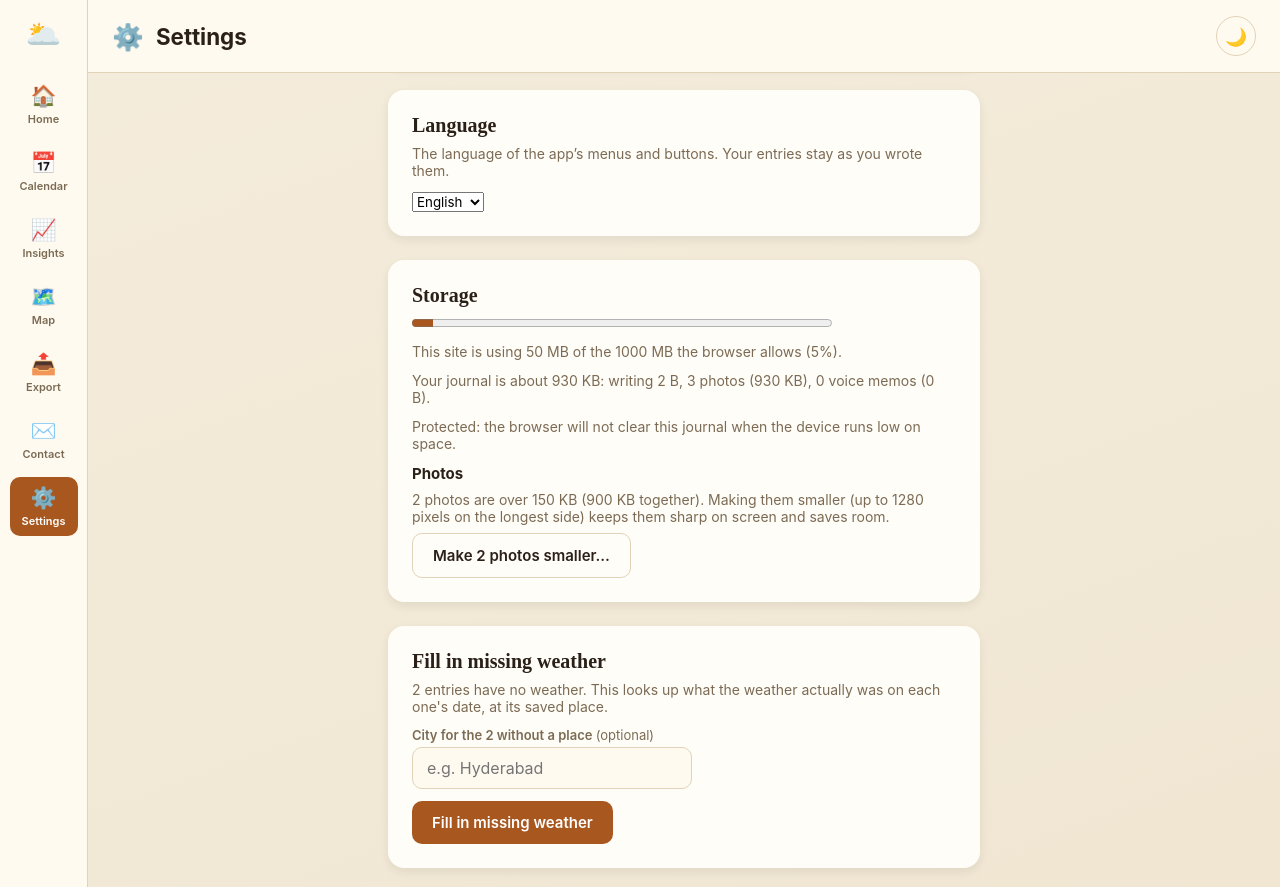
Test: Storage settings › asks before shrinking, then replaces big photos with smaller copies
This screenshot has width=1280, height=887.
(page scrolled)
What coordinates should you click on to do the following:
click the button "Make 2 photos smaller…"
I would click on:
 (521, 556)
Its box is [412,533,631,578].
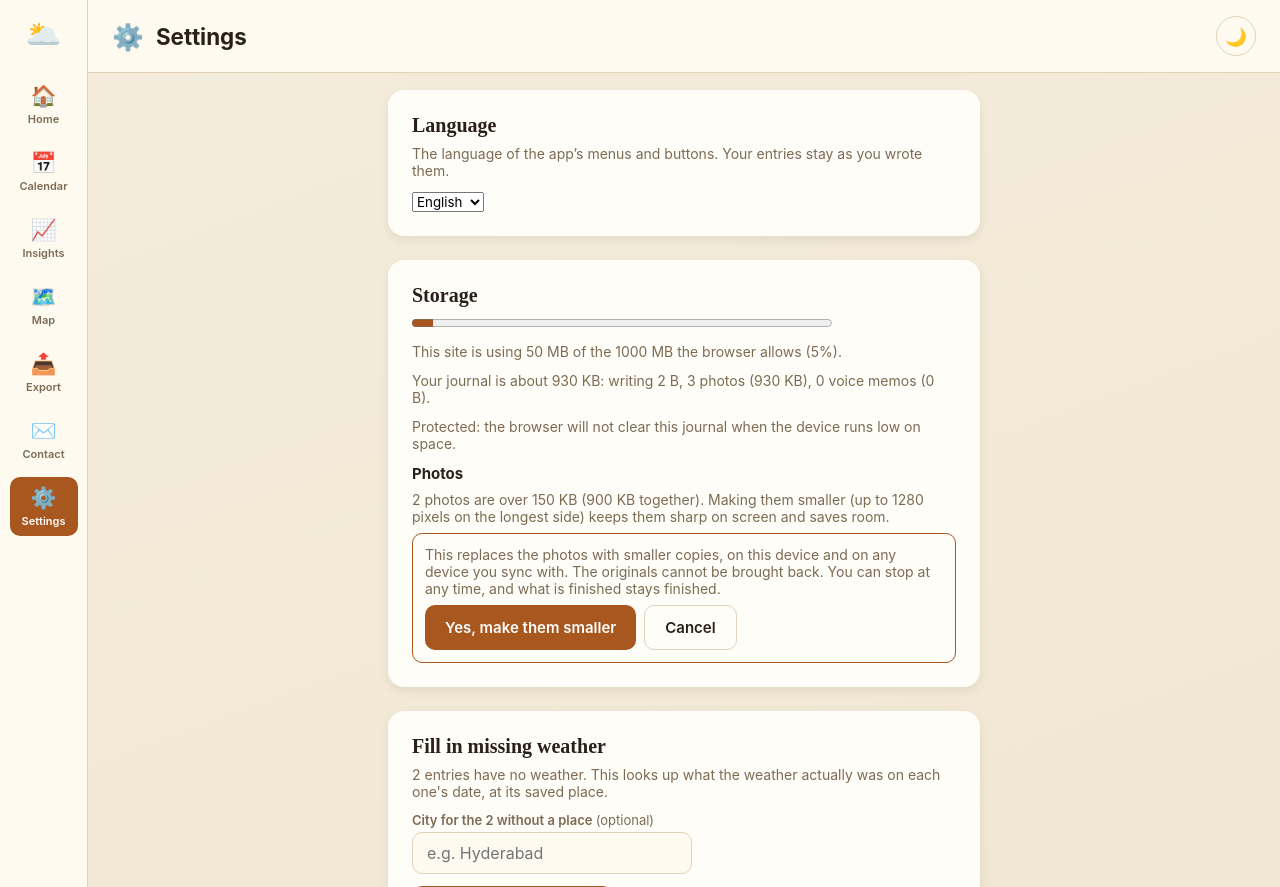
Now the text "originals cannot be brought back" is shown, box [425,546,930,597]
// Nothing has changed yet, and cancelling leaves it that way.
What coordinates should you click on to do the following:
click the button "Cancel"
I would click on:
 (690, 628)
Its box is [644,605,737,650].
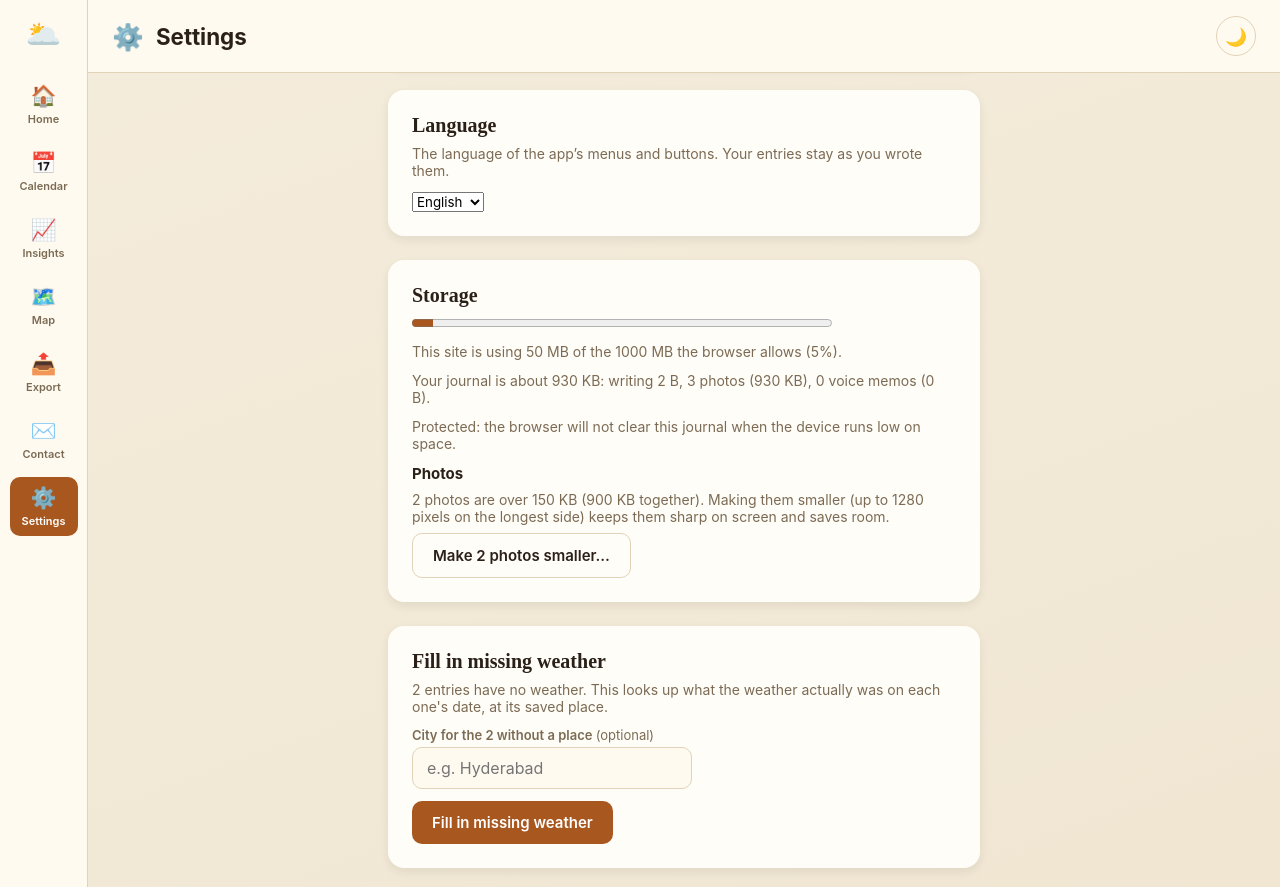
Now the text "originals cannot be brought back" is gone
What coordinates should you click on to do the following:
click the button "Make 2 photos smaller…"
I would click on:
 (521, 556)
Its box is [412,533,631,578].
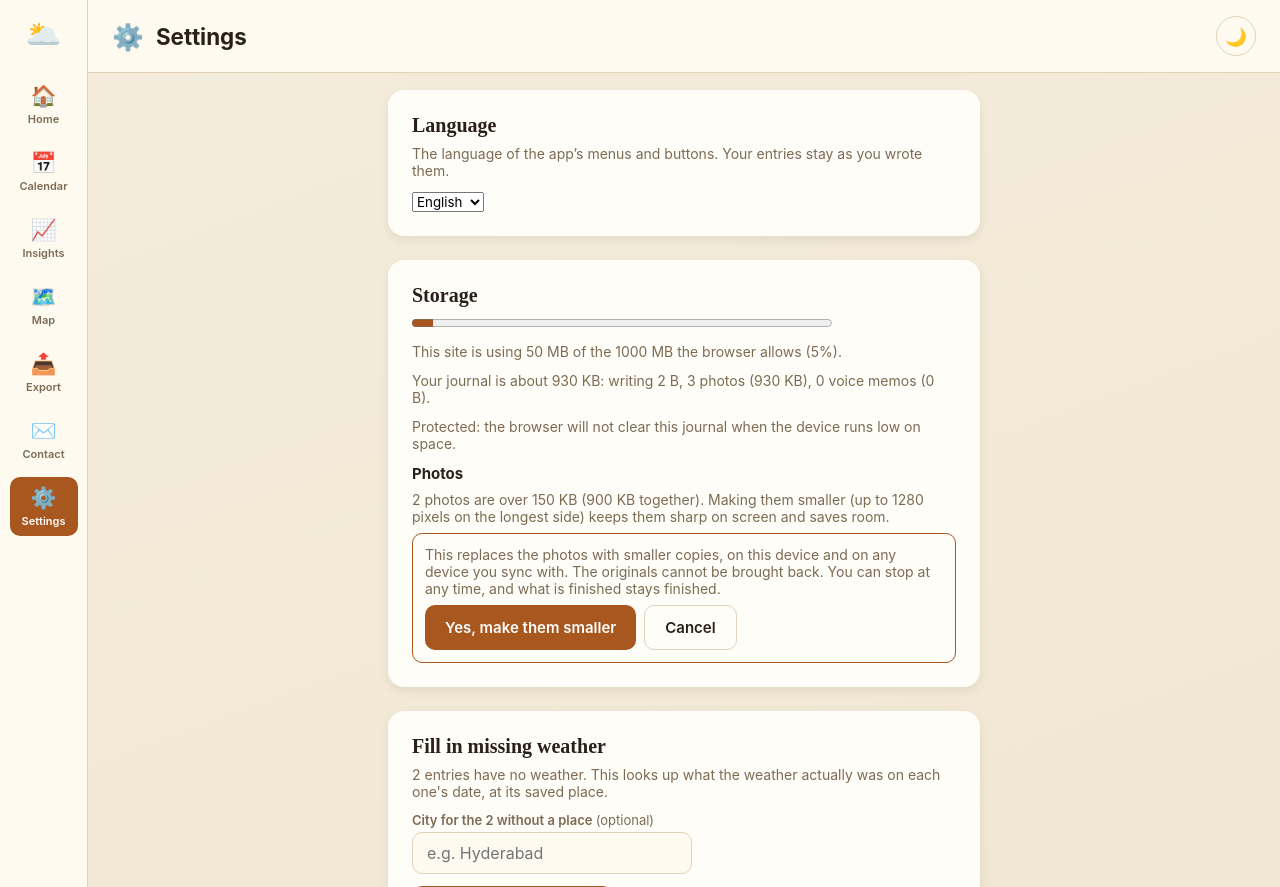
What coordinates should you click on to do the following:
click the button "Yes, make them smaller"
I would click on:
 (531, 628)
Its box is [425,605,636,650].
(page scrolled)
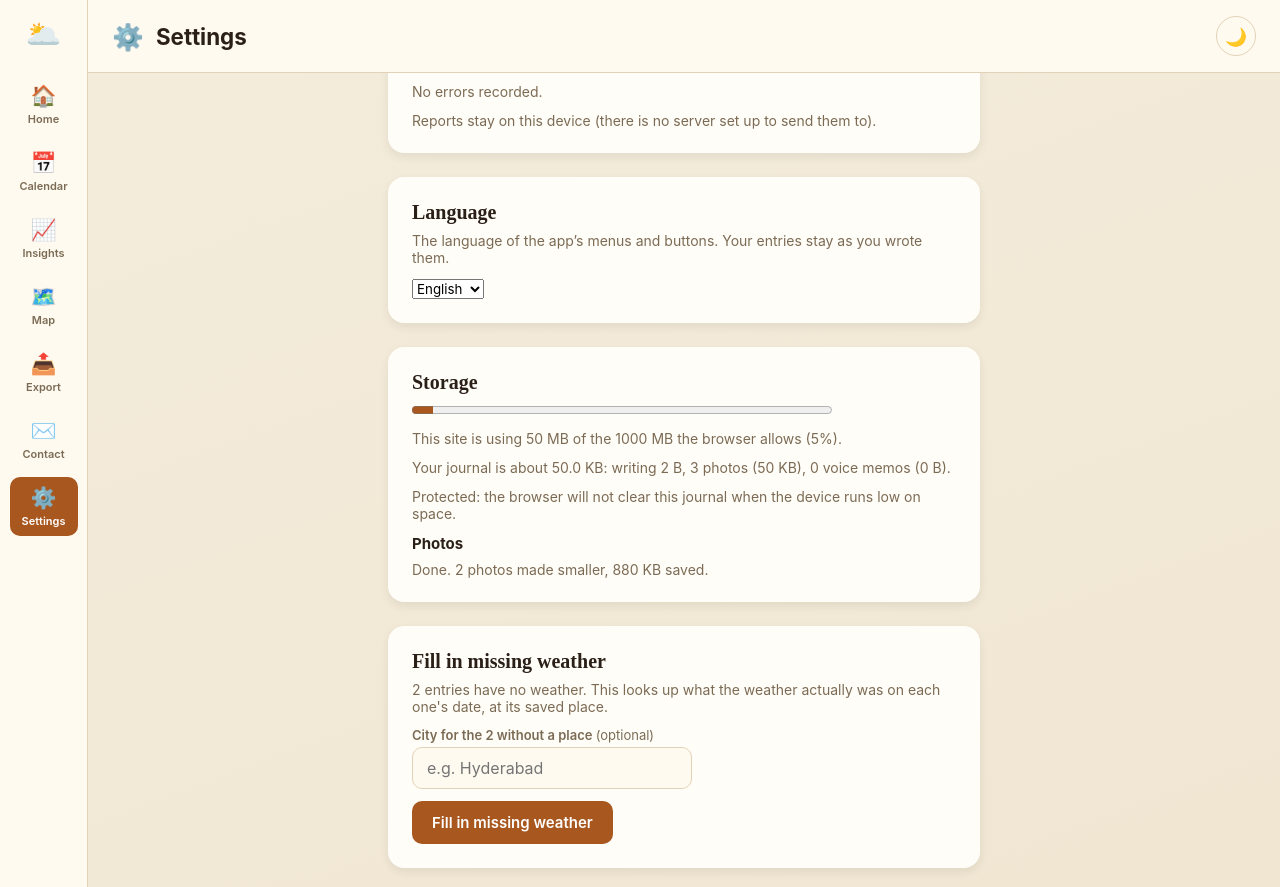
Now the text "Done. 2 photos made smaller, 880 KB saved." is shown, box [412,561,708,578]
